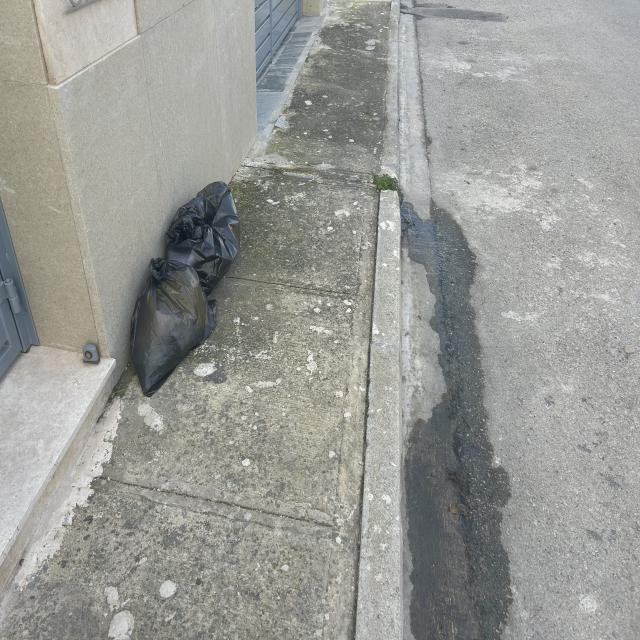black_bag: (128, 258, 216, 398), (162, 175, 242, 295)
